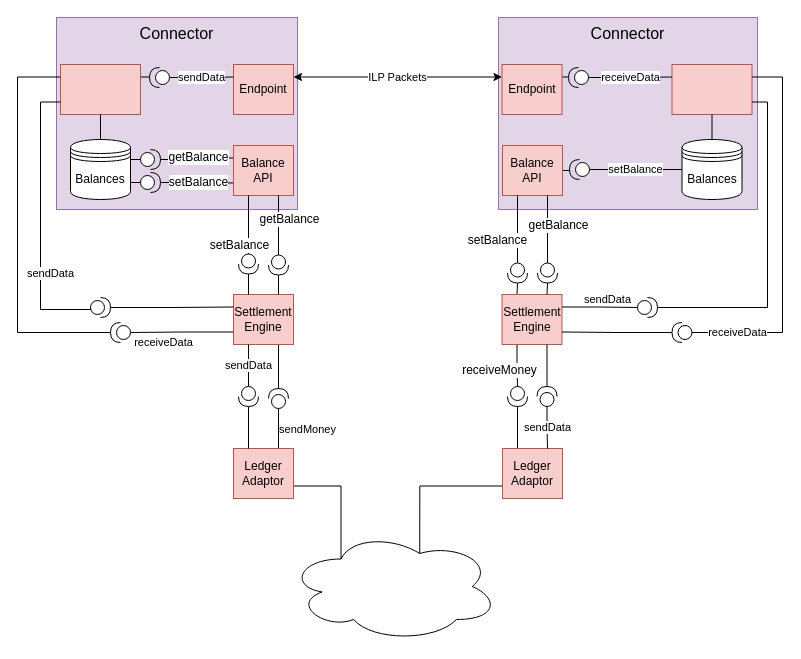
Image size: 801x659. Some labels were removed from this diagram. Each missing label, with the box of its shape:
Middeware: (60, 64, 140, 114)
Middleware: (671, 64, 752, 114)
Settlement System: (288, 530, 498, 642)
